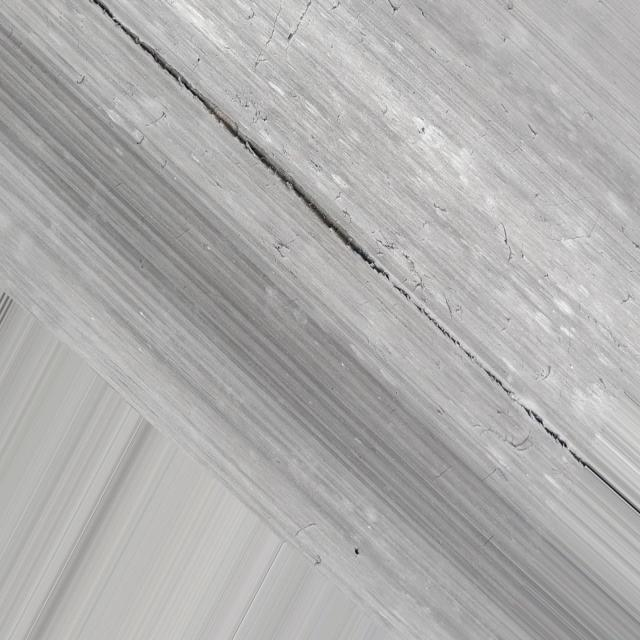Puncture: (288, 32, 292, 44)
Tear: (101, 0, 640, 527)
